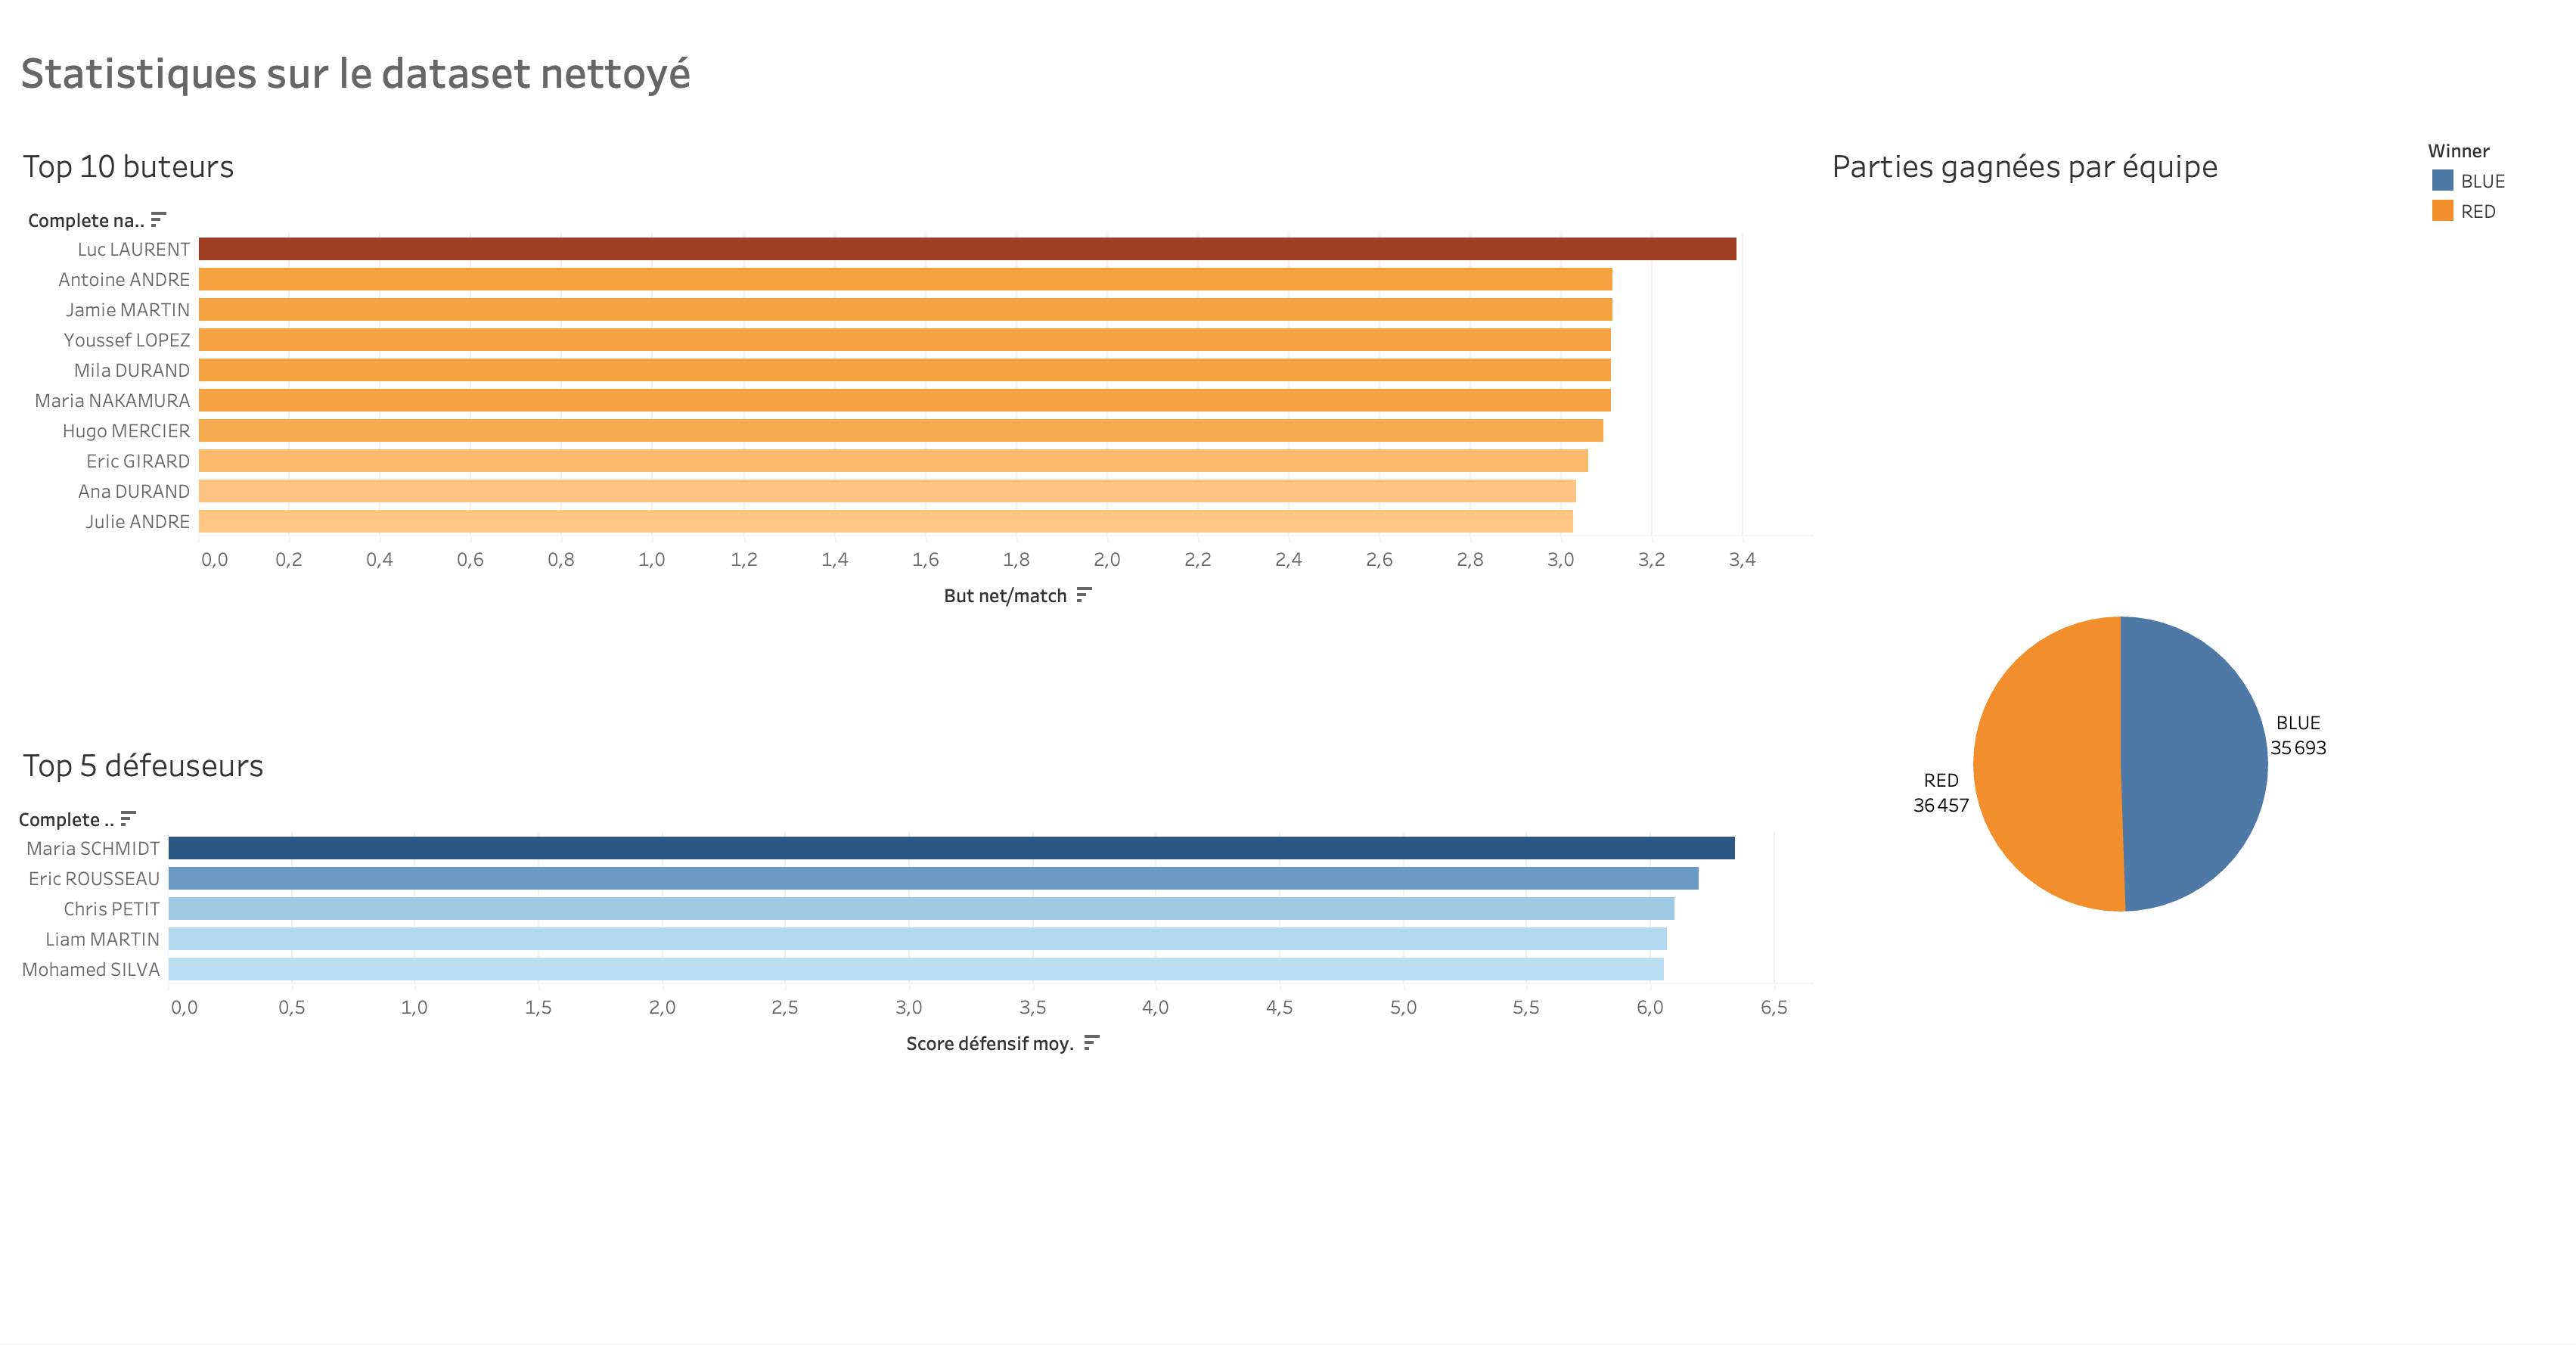

Layout of this report page (visuals, bound fields, positions):
{"tool":"tableau","page":{"name":"Tableau de bord 1","canvas":[1000,1000],"units":"permille","ordinal":0},"visuals":[{"type":"text","box":[4.7,9,990.6,90]},{"type":"worksheet","title":"Top 10 buteurs","mark":"Automatic","rows":["Calculation_6927028873213947905"],"cols":["Calculation_6927028873213390848"],"box":[4.7,99,699.6,446]},{"type":"worksheet","title":"Parties gagnées par équipe","mark":"Pie","box":[704.3,99,233.1,892]},{"type":"legend","title":"Parties gagnées par équipe","param":"[federated.1ea9l1q0phdeqc1glj8mw094fbb7].[none:winner:nk]","box":[937.4,99,57.9,74.2]},{"type":"worksheet","title":"Top 5 défeuseurs","mark":"Automatic","rows":["Calculation_6927028873213947905"],"cols":["Calculation_7014426853499043840"],"box":[4.7,545,699.6,446]}]}

Visuals, with their boxes on the dashboard's canvas, which has no fixed pixel size, in thousandths of its width and height (x1, y1, x2, y2). These are canvas units, not pixel positions in the 2576x1345 screenshot, which may show the page scaled, cropped or inside an application window:
text: (5,9,995,99)
"Top 10 buteurs" worksheet: (5,99,704,545)
"Parties gagnées par équipe" worksheet (Pie marks): (704,99,937,991)
"Parties gagnées par équipe" legend: (937,99,995,173)
"Top 5 défeuseurs" worksheet: (5,545,704,991)
